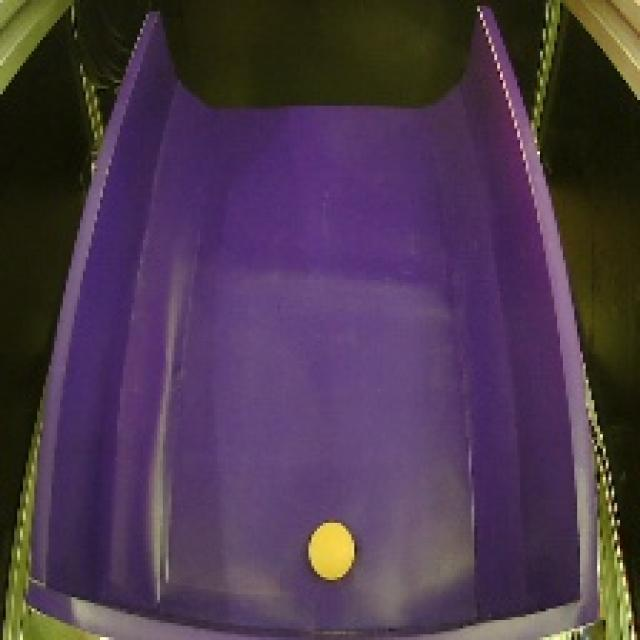small: (302, 516, 364, 588)
